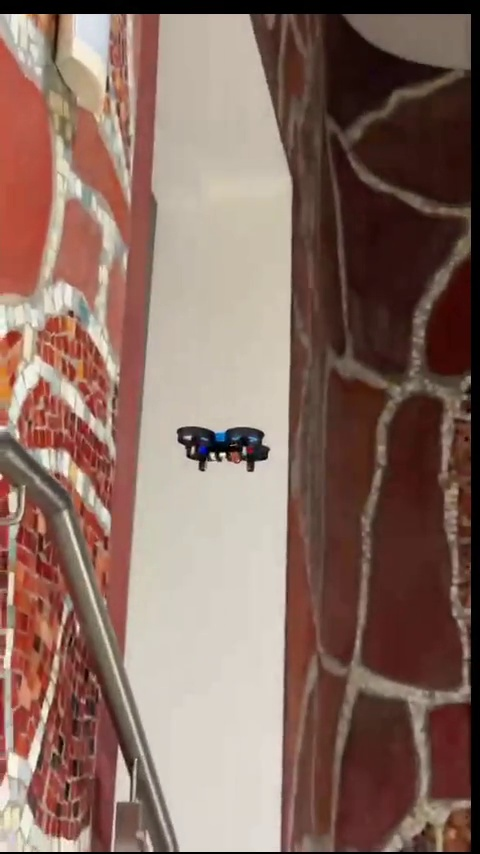drone: (178, 425, 273, 476)
